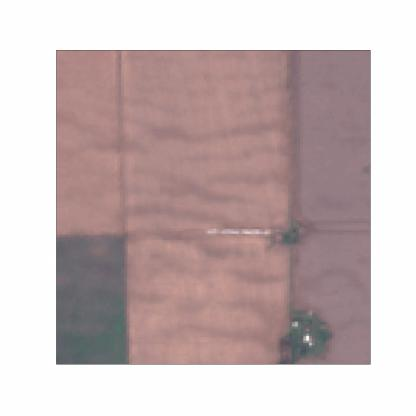silobolsa: (207, 225, 270, 238)
